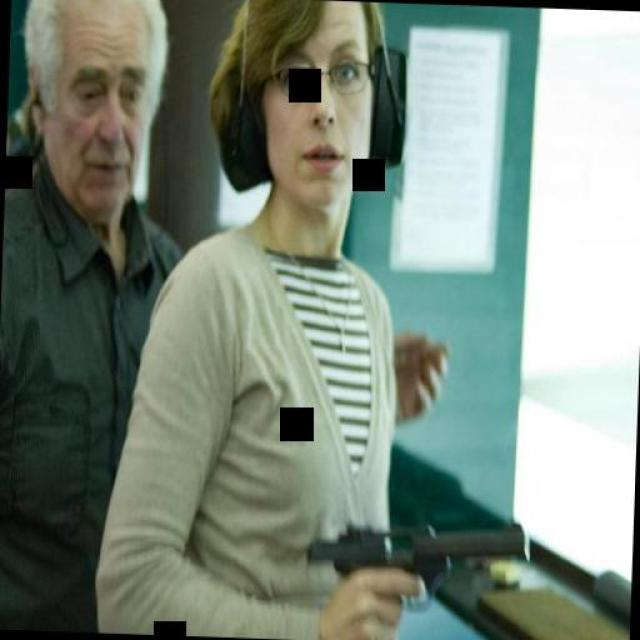gun: (298, 510, 532, 621)
